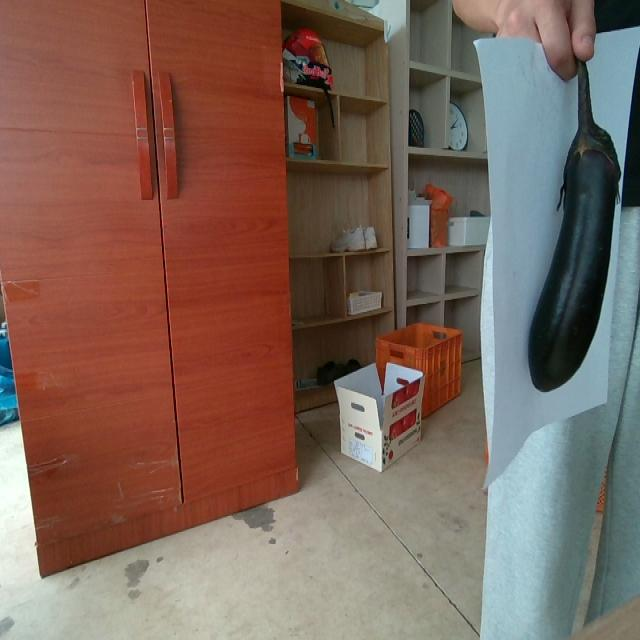Egg plant: (528, 61, 620, 391)
